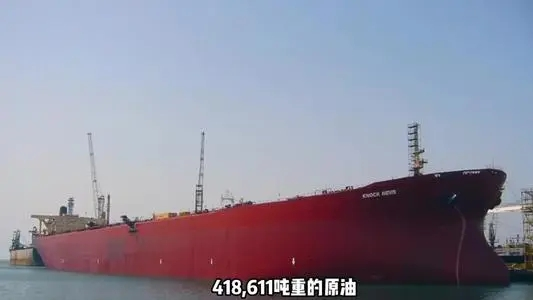Cargoship: (29, 122, 527, 284)
